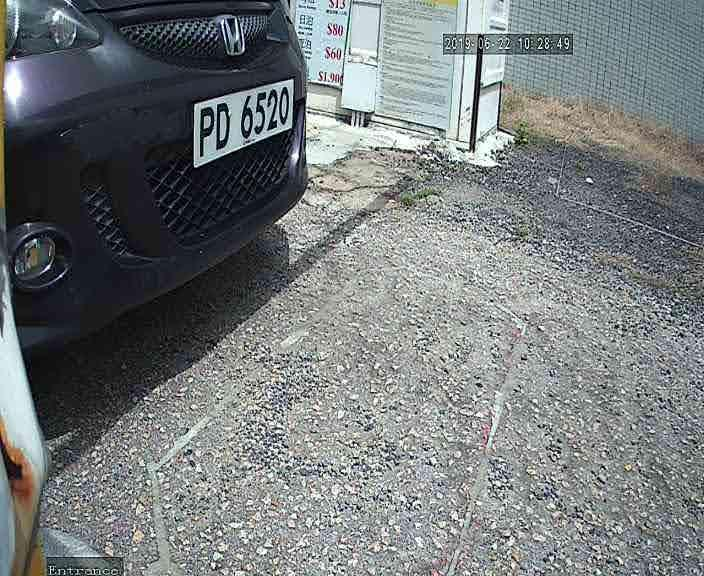bottom_left_lp: (191, 162, 201, 171)
bottom_right_lp: (287, 124, 295, 131)
brand: (213, 13, 250, 56)
left_headlight: (2, 1, 105, 51)
right_headlight: (278, 1, 298, 27)
top_left_lp: (191, 100, 199, 108)
top_right_lp: (289, 76, 297, 85)
